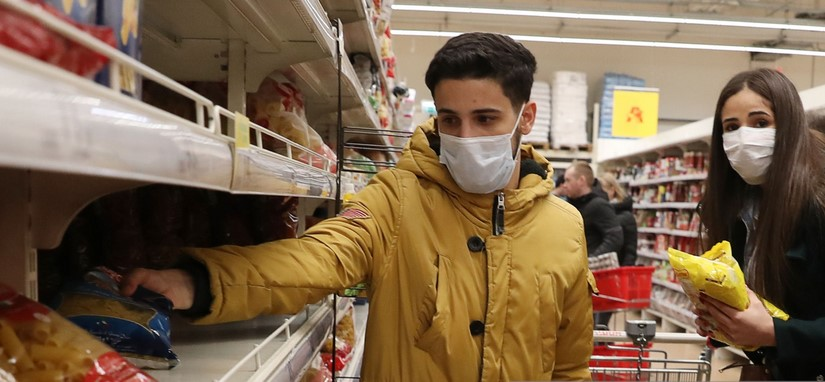face_with_mask: (430, 38, 535, 201), (713, 71, 796, 184)
